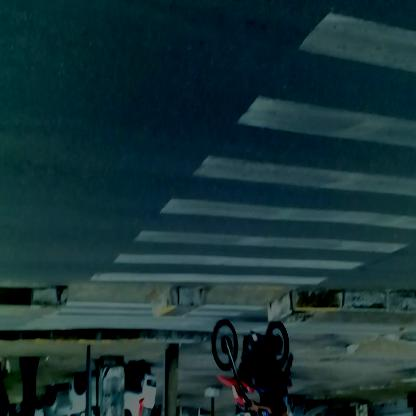crosswalk: (106, 20, 416, 284)
sidewalk: (3, 322, 207, 371)
